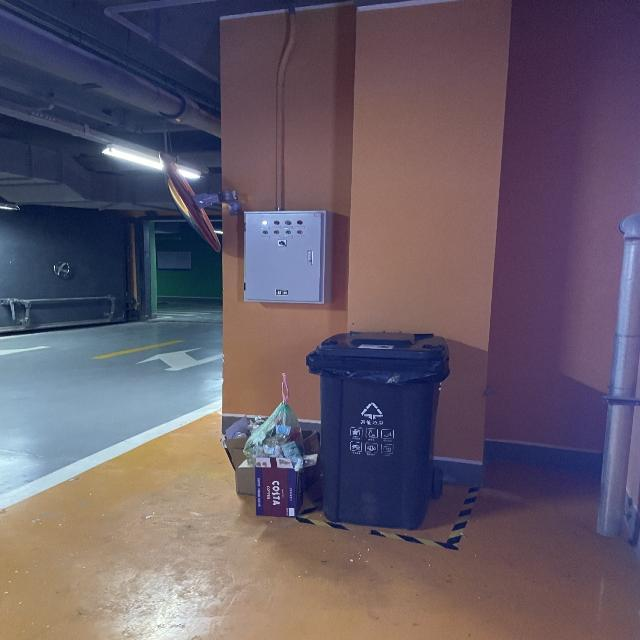garbage: (219, 371, 318, 517)
garbage_bin: (304, 329, 448, 529)
